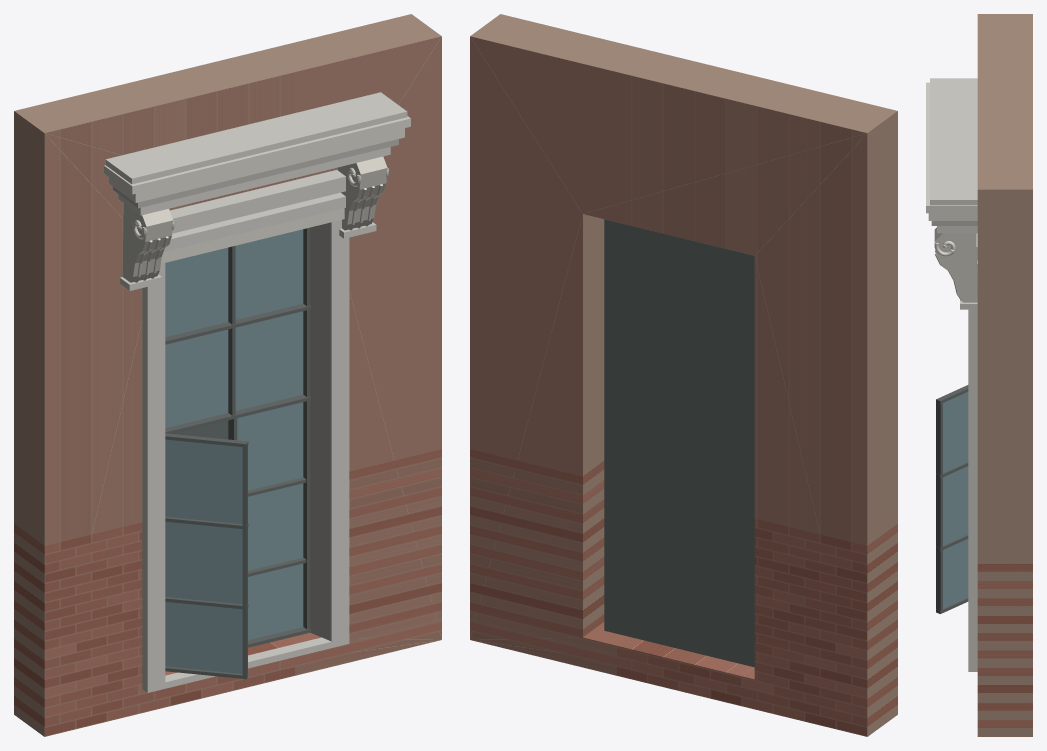
The model's file is hongkong-85-console-window-near.glb.
3 renders of one model, left to right at view 1: azimuth 30°, elevation 25°; view 2: azimuth 150°, elevation 25°; view 3: azimuth 270°, elevation 25°, orthographic. The views are drawn at different scales.
Parts seen in each view (by area): view 1: 香港路85号卷首石托窗楣与外开钢窗; view 2: 香港路85号卷首石托窗楣与外开钢窗; view 3: 香港路85号卷首石托窗楣与外开钢窗.
Part boxes in pixels (x1=…): 香港路85号卷首石托窗楣与外开钢窗: x1=14, y1=14, x2=441, y2=736; 香港路85号卷首石托窗楣与外开钢窗: x1=470, y1=14, x2=897, y2=736; 香港路85号卷首石托窗楣与外开钢窗: x1=926, y1=14, x2=1032, y2=736.
Size of the model in its own units: 3.32 by 4.82 by 0.852.
8 materials, 1 textured.
